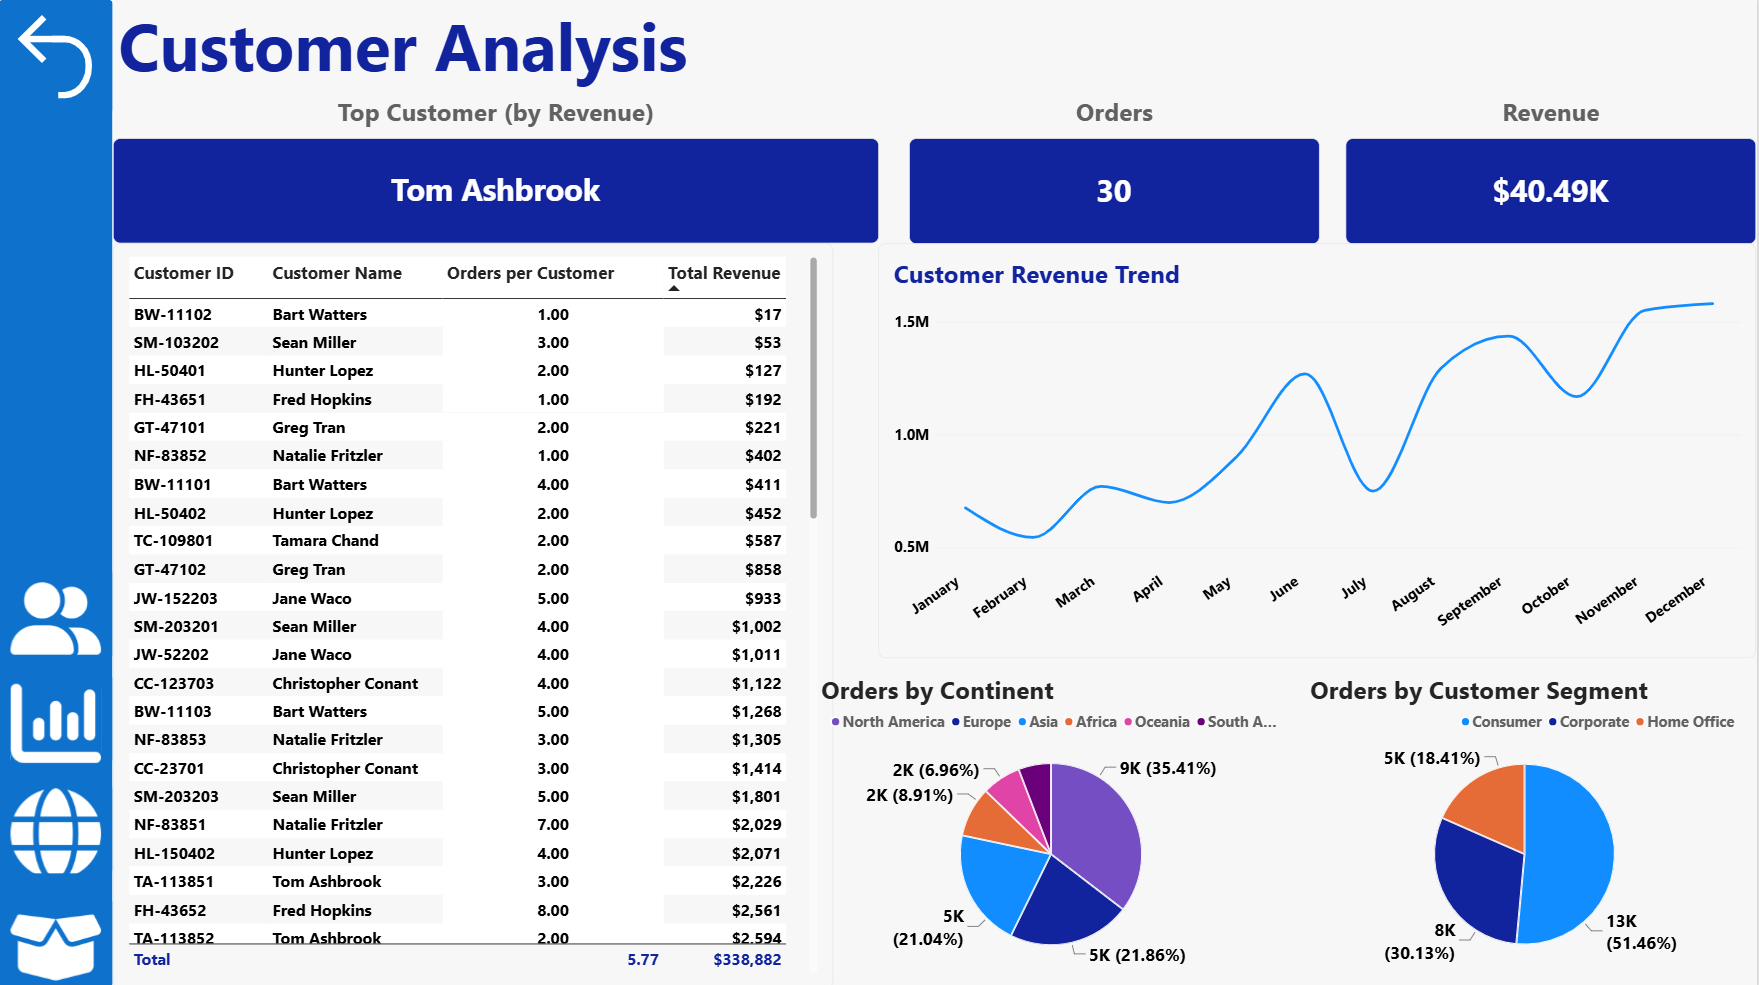

The page's visual inventory and layout, read from the dashboard file:
{"tool":"powerbi","page":{"name":"Customer","canvas":[1920,1080],"ordinal":3},"visuals":[{"type":"actionButton","box":[0,0,124,1078],"z":0},{"type":"actionButton","box":[0,981,124,97],"z":1000},{"type":"actionButton","box":[0,857.6,124,97],"z":2000},{"type":"actionButton","box":[0,736.7,124,97],"z":3000},{"type":"actionButton","box":[0,0,124,124],"z":4000},{"type":"actionButton","box":[0,622.5,124,97],"z":5000},{"type":"tableEx","fields":{"Values":["superstore.Customer ID","superstore.Customer Name","Performance Measures.Orders per Customer","superstore.Total Revenue"]},"box":[124,266.1,787.1,814.1],"z":6000},{"type":"card","fields":{"Values":["superstore.Top Customer by Revenue"]},"box":[124,151.1,836.7,115],"z":6001},{"type":"textbox","box":[124,103.7,836.7,47.4],"z":6002},{"type":"card","fields":{"Values":["superstore.Revenue by Top Customer"]},"box":[1470.4,151.1,448.3,115.3],"z":6003},{"type":"textbox","box":[994.6,103.7,448.8,47.4],"z":6004},{"type":"card","fields":{"Values":["superstore.Orders by Top Customer"]},"box":[994.6,151.1,448.3,115.3],"z":6005},{"type":"textbox","box":[1470.4,103.7,448.8,47.4],"z":6006},{"type":"textbox","box":[124,0,633.7,103.7],"z":6007},{"type":"lineChart","title":"Customer Revenue  Trend ","fields":{"Category":["superstore.Order Date.Variation.Date Hierarchy.Month"],"Y":["superstore.Total Sales"]},"box":[960.7,266.1,958.5,453.3],"z":6008},{"type":"pieChart","title":"Orders by Customer Segment","fields":{"Category":["superstore.Segment"],"Y":["superstore.Total Orders"]},"box":[1416.3,719.4,500.7,358.6],"z":6009},{"type":"pieChart","title":"Orders by Continent","fields":{"Category":["superstore.Continent"],"Y":["superstore.Total Orders"]},"box":[881.8,719.4,534.5,358.6],"z":6010}]}

Visuals, with their boxes on the page's 1920x1080 design canvas (x1, y1, x2, y2). These are canvas units, not pixel positions in the 1759x985 screenshot, which may show the page scaled, cropped or inside an application window:
actionButton: x1=0 y1=0 x2=124 y2=1078
actionButton: x1=0 y1=981 x2=124 y2=1078
actionButton: x1=0 y1=858 x2=124 y2=955
actionButton: x1=0 y1=737 x2=124 y2=834
actionButton: x1=0 y1=0 x2=124 y2=124
actionButton: x1=0 y1=622 x2=124 y2=720
tableEx - superstore.Customer ID x superstore.Customer Name: x1=124 y1=266 x2=911 y2=1080
card - superstore.Top Customer by Revenue: x1=124 y1=151 x2=961 y2=266
textbox: x1=124 y1=104 x2=961 y2=151
card - superstore.Revenue by Top Customer: x1=1470 y1=151 x2=1919 y2=266
textbox: x1=995 y1=104 x2=1443 y2=151
card - superstore.Orders by Top Customer: x1=995 y1=151 x2=1443 y2=266
textbox: x1=1470 y1=104 x2=1919 y2=151
textbox: x1=124 y1=0 x2=758 y2=104
"Customer Revenue  Trend " lineChart: x1=961 y1=266 x2=1919 y2=719
"Orders by Customer Segment" pieChart: x1=1416 y1=719 x2=1917 y2=1078
"Orders by Continent" pieChart: x1=882 y1=719 x2=1416 y2=1078
